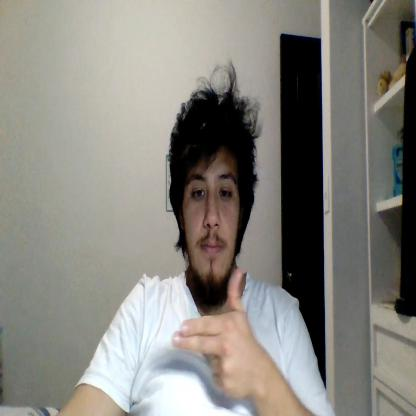H: (172, 265, 252, 401)
